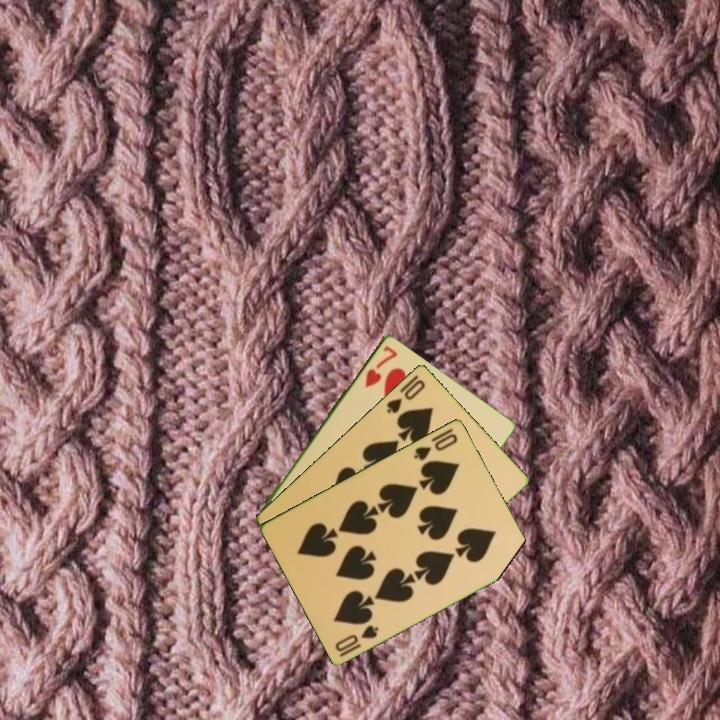10s: (331, 621, 382, 659), (383, 376, 428, 416), (410, 429, 461, 463)
7h: (361, 342, 400, 390)
